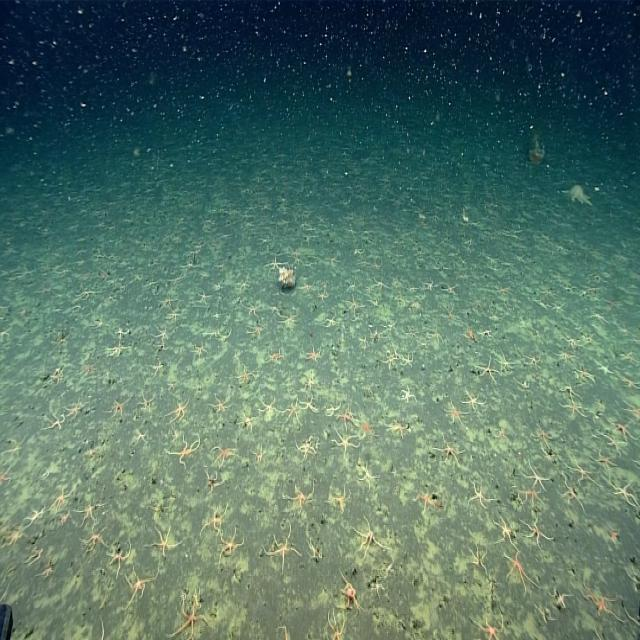brittle-stars: (579, 577, 620, 621), (173, 592, 209, 638), (262, 529, 300, 563), (355, 519, 388, 557), (565, 451, 597, 489), (216, 524, 245, 565), (464, 478, 494, 514), (504, 552, 532, 590), (168, 432, 199, 465), (472, 611, 505, 640), (148, 521, 175, 556), (611, 478, 639, 510), (558, 474, 582, 511), (434, 436, 461, 468), (522, 460, 548, 492), (522, 515, 546, 548), (332, 426, 358, 456), (200, 503, 225, 533), (127, 570, 150, 602), (287, 483, 314, 510), (610, 414, 635, 443), (356, 462, 381, 491), (105, 541, 129, 570), (466, 541, 489, 571), (492, 519, 517, 546), (210, 442, 239, 465), (443, 398, 466, 426), (165, 398, 191, 422), (529, 422, 553, 448), (591, 446, 614, 471), (478, 355, 498, 383), (460, 389, 486, 410), (327, 612, 345, 640), (414, 489, 438, 510), (560, 398, 585, 418), (358, 415, 379, 438), (249, 442, 269, 466), (238, 406, 256, 432), (78, 501, 99, 523), (51, 485, 70, 509), (44, 411, 66, 431), (210, 394, 230, 416), (574, 366, 596, 386), (285, 399, 301, 426), (62, 397, 82, 418), (260, 397, 280, 418), (388, 417, 407, 439), (235, 364, 255, 384), (302, 393, 318, 417), (108, 340, 127, 360), (189, 340, 208, 360), (399, 384, 417, 405), (241, 298, 262, 316), (278, 312, 299, 330), (247, 322, 266, 340), (497, 353, 516, 371), (138, 391, 154, 412), (556, 346, 574, 364), (560, 382, 578, 400), (324, 398, 341, 417), (153, 325, 170, 344), (111, 395, 125, 418), (266, 348, 286, 364), (304, 344, 321, 362), (344, 295, 362, 312), (158, 293, 176, 310), (400, 350, 415, 370), (523, 351, 540, 368), (267, 256, 285, 272), (78, 362, 99, 375), (492, 427, 509, 442), (381, 351, 396, 368), (198, 289, 212, 307), (324, 310, 338, 328), (316, 288, 330, 303), (358, 333, 370, 350), (167, 311, 180, 326), (374, 277, 387, 291), (347, 409, 355, 419)
